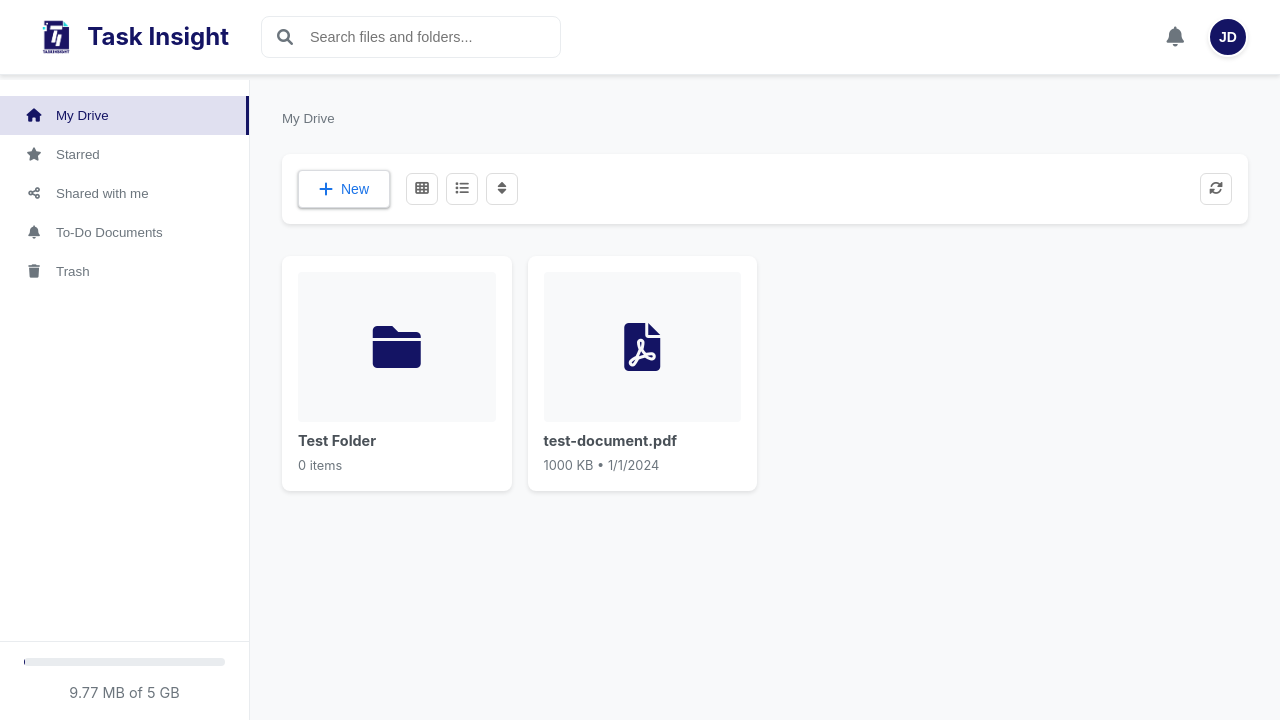
Test: Dashboard Component › opens create folder modal from the new menu
The image size is (1280, 720).
expect the heading "test-document.pdf" is shown: met, box [544,432,677,449]
Click the button "New": (344, 189) [298,170,390,208]
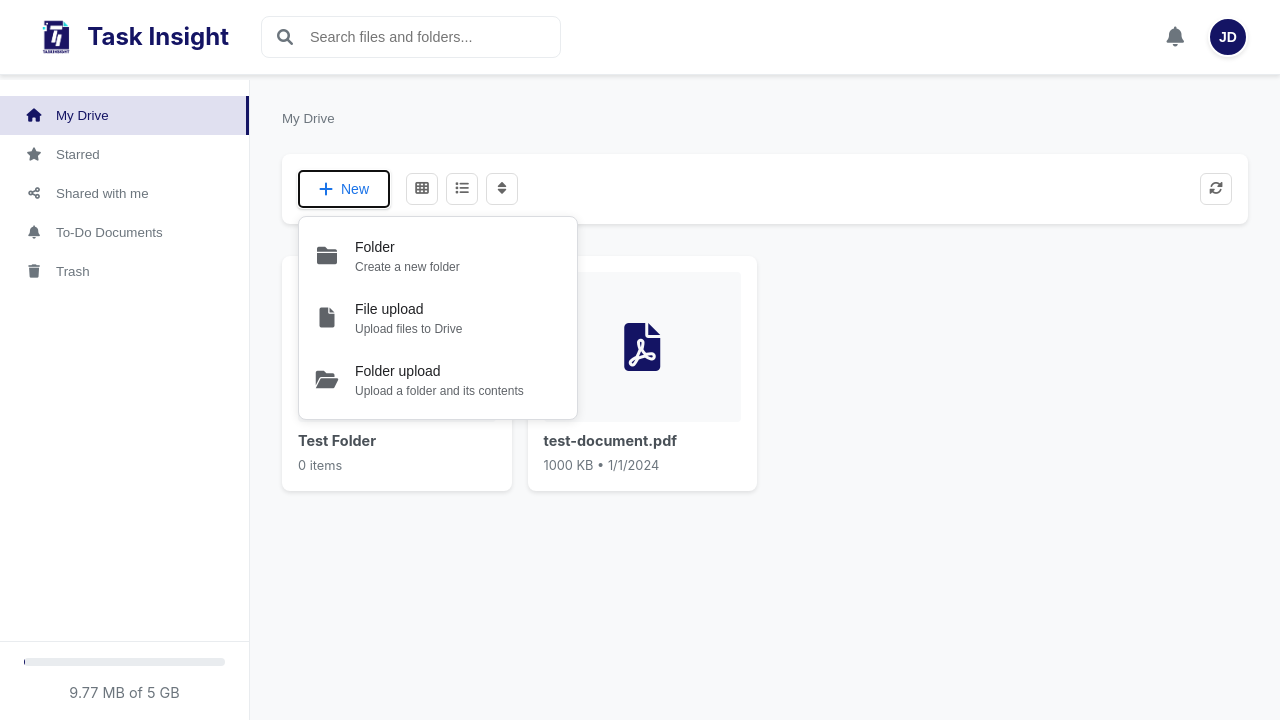
Click the text "Folder": (375, 247) [355,239,395,255]
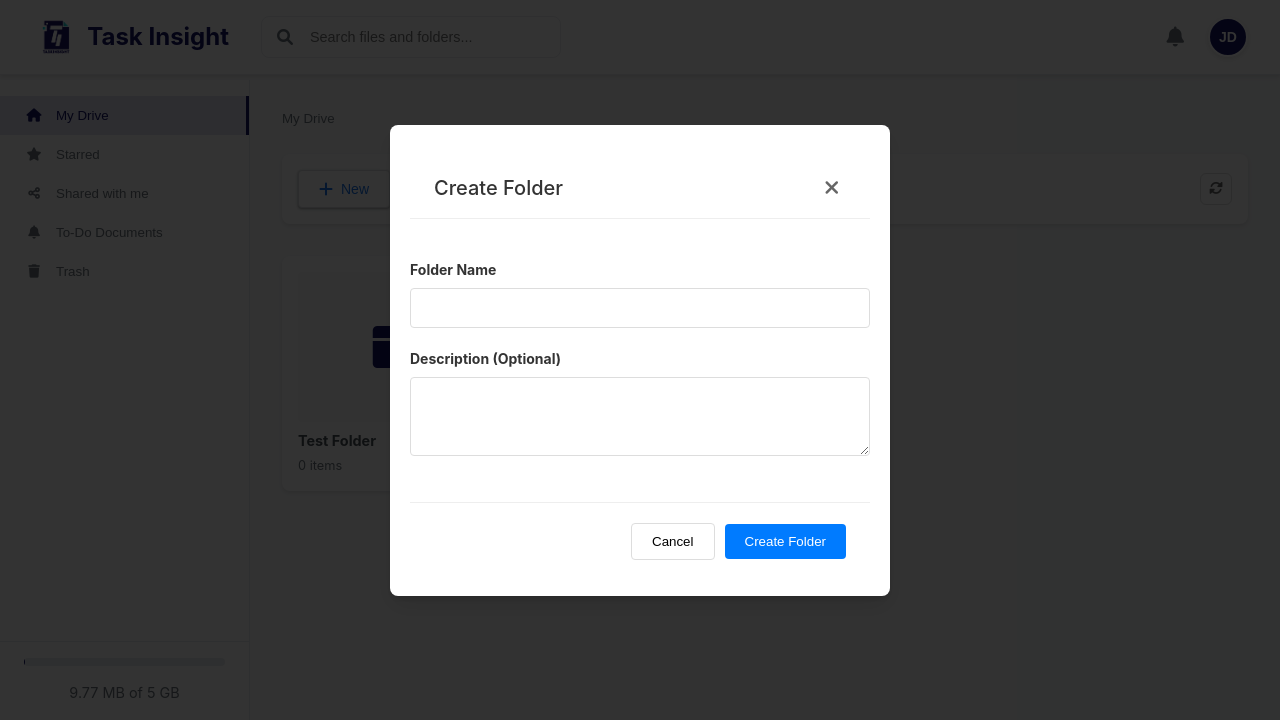
expect the heading "Create Folder" is shown: met, box [434,173,563,203]
